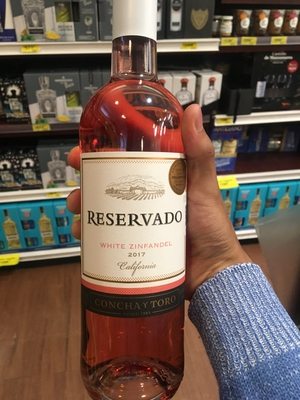reservado white zinfandel: (74, 5, 196, 395)
